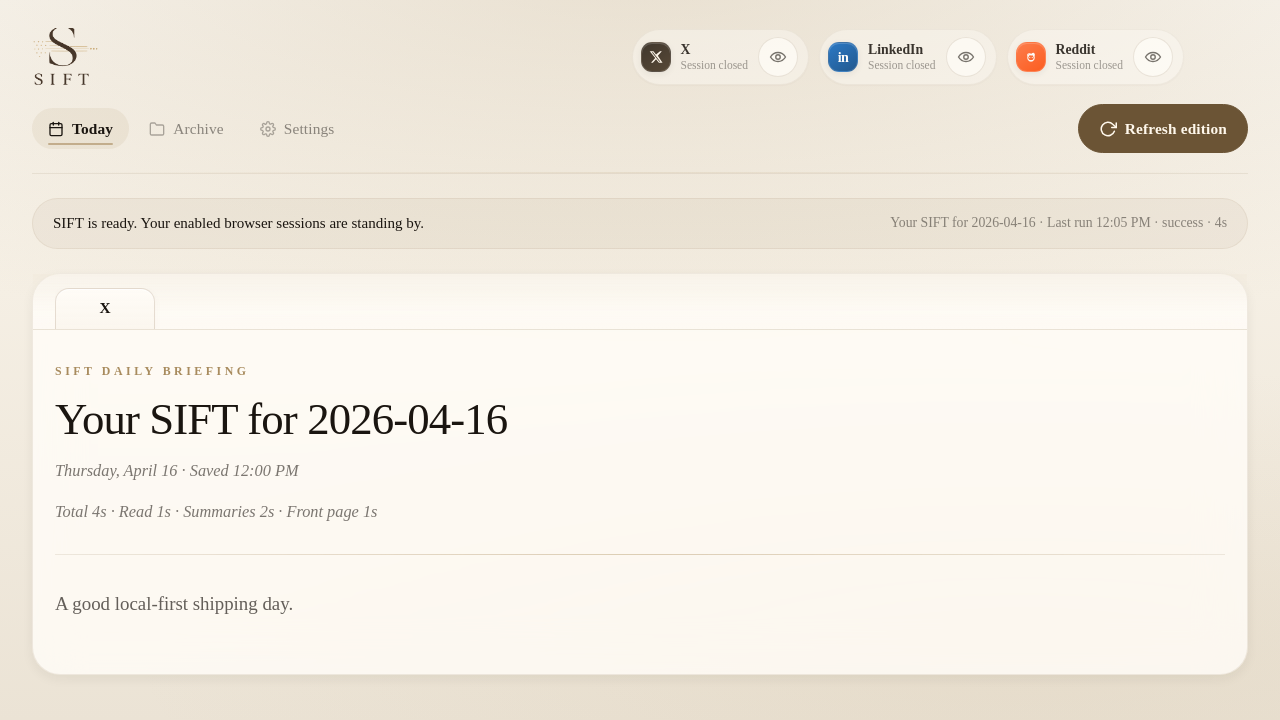
App › clears all archived editions from the archive
The image size is (1280, 720).
Expected: the text "SIFT is ready." is shown, x1=53 y1=215 x2=424 y2=231
Click the button "Archive": (186, 129) x1=133 y1=108 x2=240 y2=149
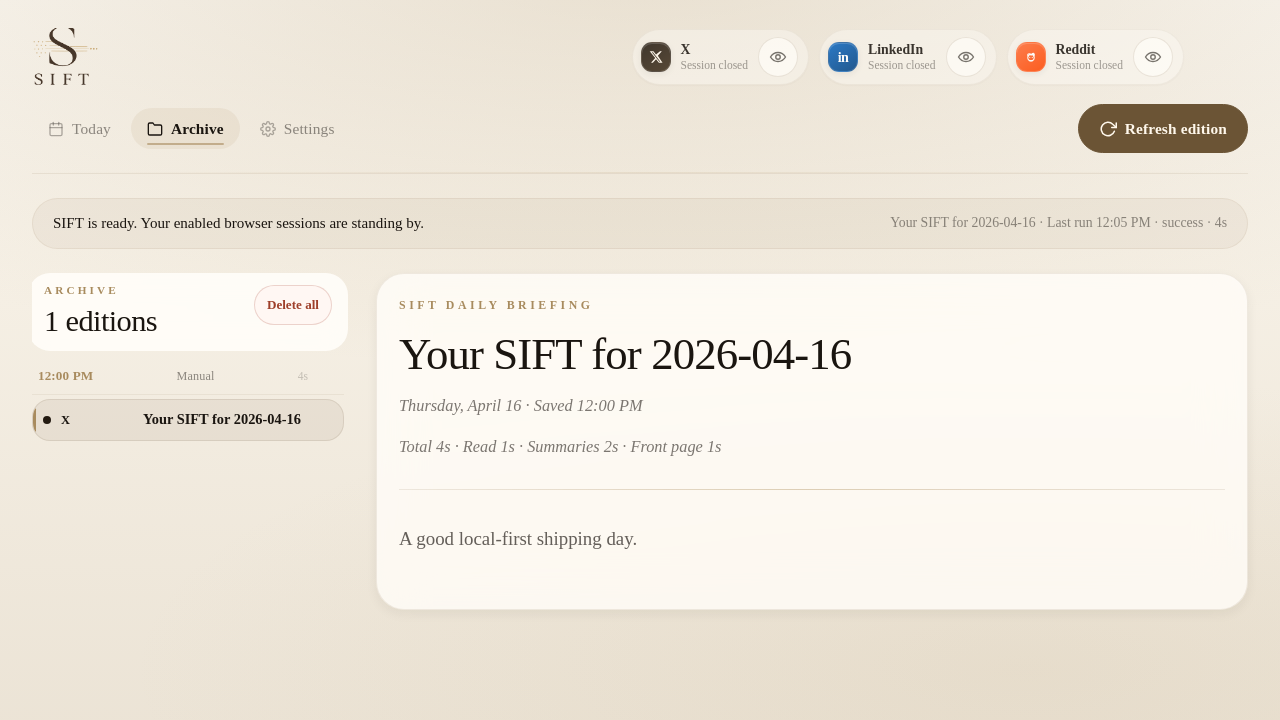
Click the button with aria-label "Delete all editions": (293, 305) x1=254 y1=285 x2=332 y2=325
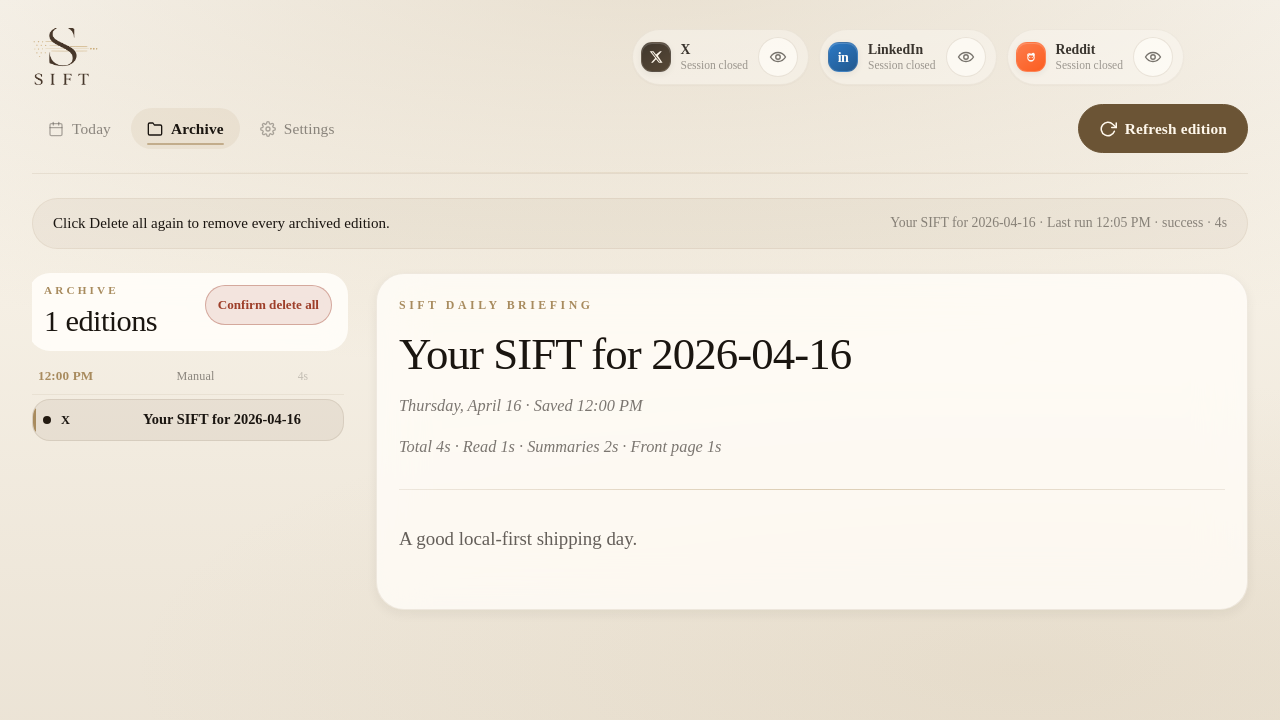
Now the text "Click Delete all again to remove every archived edition." is shown, box x1=53 y1=211 x2=390 y2=236
Click the button with aria-label "Confirm delete all editions": (268, 305) x1=205 y1=285 x2=332 y2=325
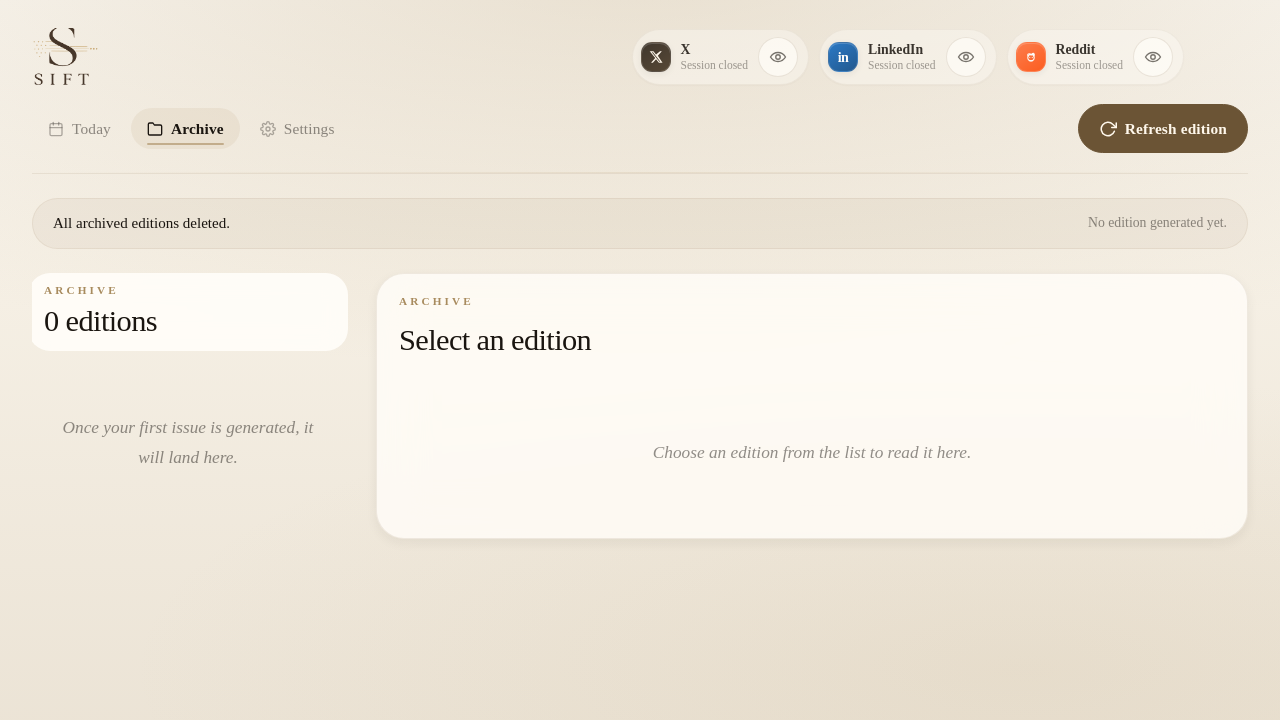
Now the text "All archived editions deleted." is shown, box x1=53 y1=211 x2=230 y2=236
Now the text "Once your first issue is generated, it will land here." is shown, box x1=63 y1=418 x2=313 y2=467
